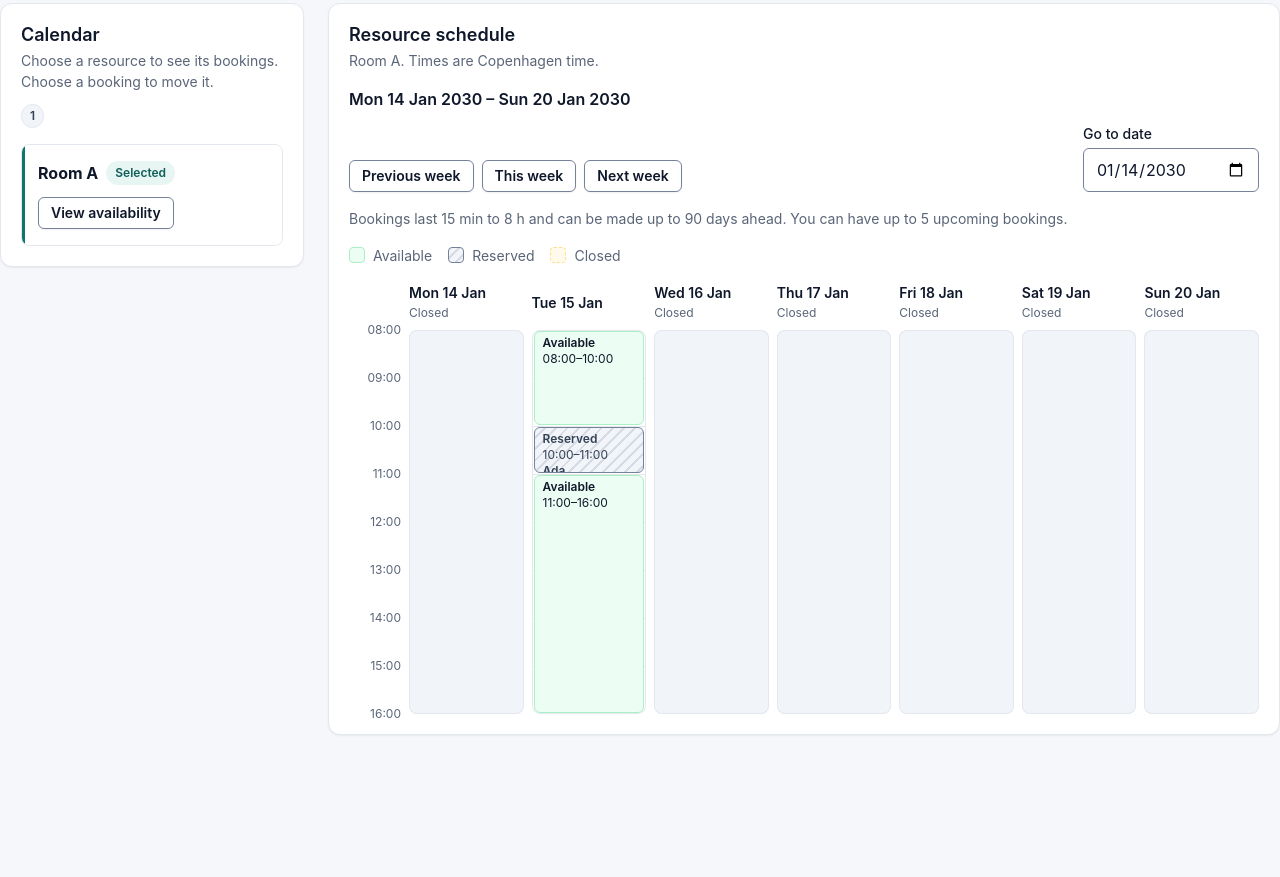
Test: Admin calendar › moves a booking with its version and returns to the same week
The image size is (1280, 877).
Click the button "Reserved 10:00–11:00 Ada".
click(589, 450)  # box [534,427,644,473]
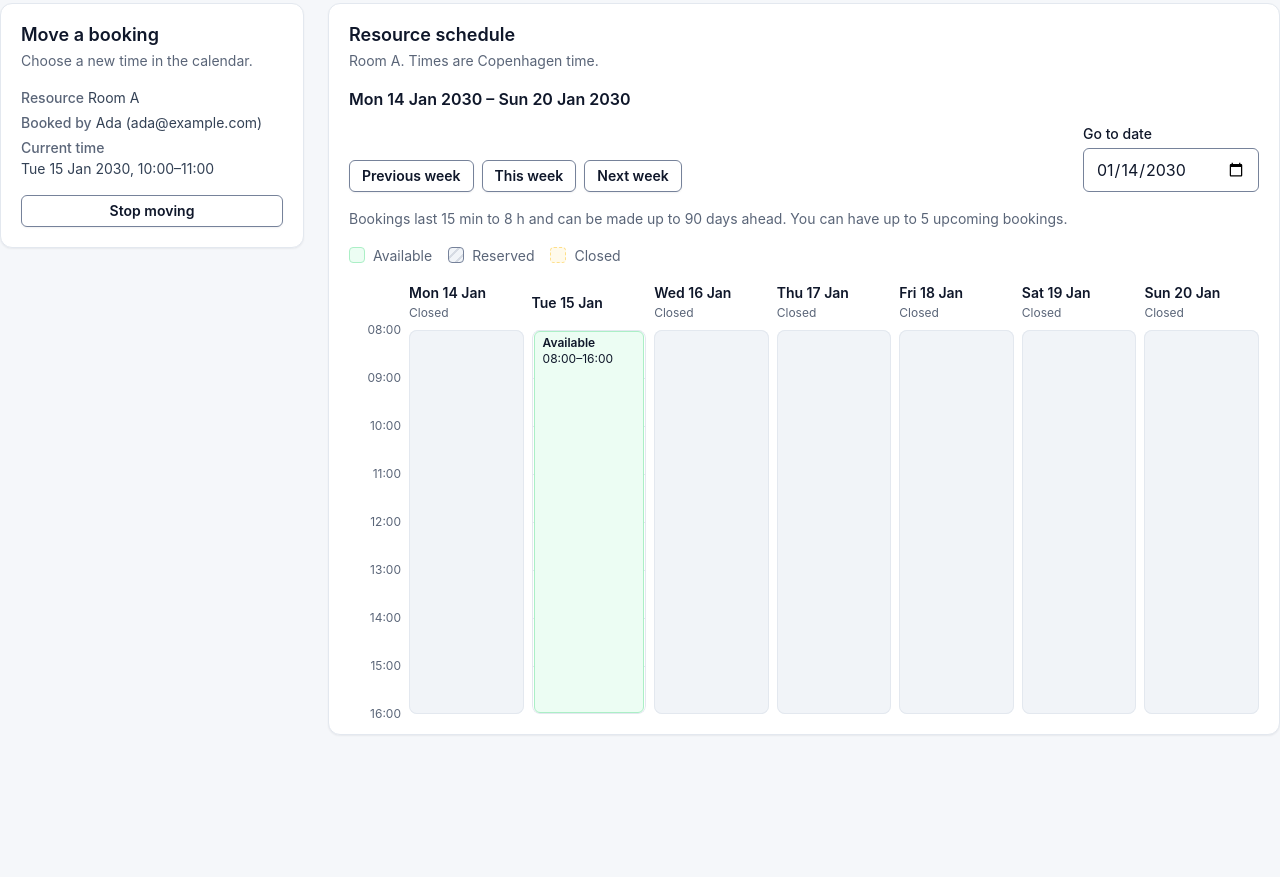
Expected: the text "Ada (ada@example.com)" is shown, [96,112,262,133]
// Ada's own time is free while it is being moved.
Click the button with aria-label "Available Tue 15 Jan 2030, 08:00–16:00. Choose a time".
click(589, 522)  # box [534,331,644,713]
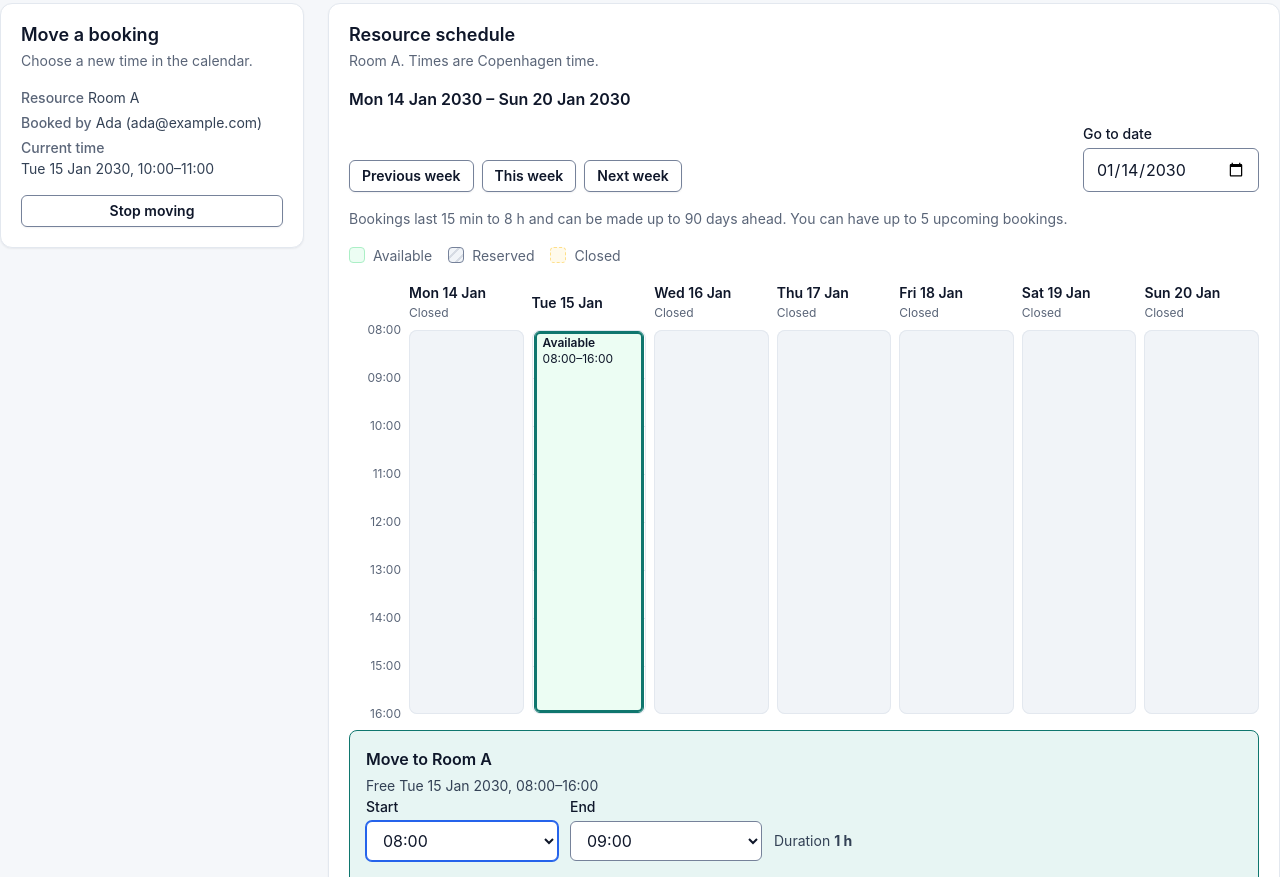
Select "13:00" in the dropdown labelled "Start" at {"x": 462, "y": 841}, box [366,821,558,861]
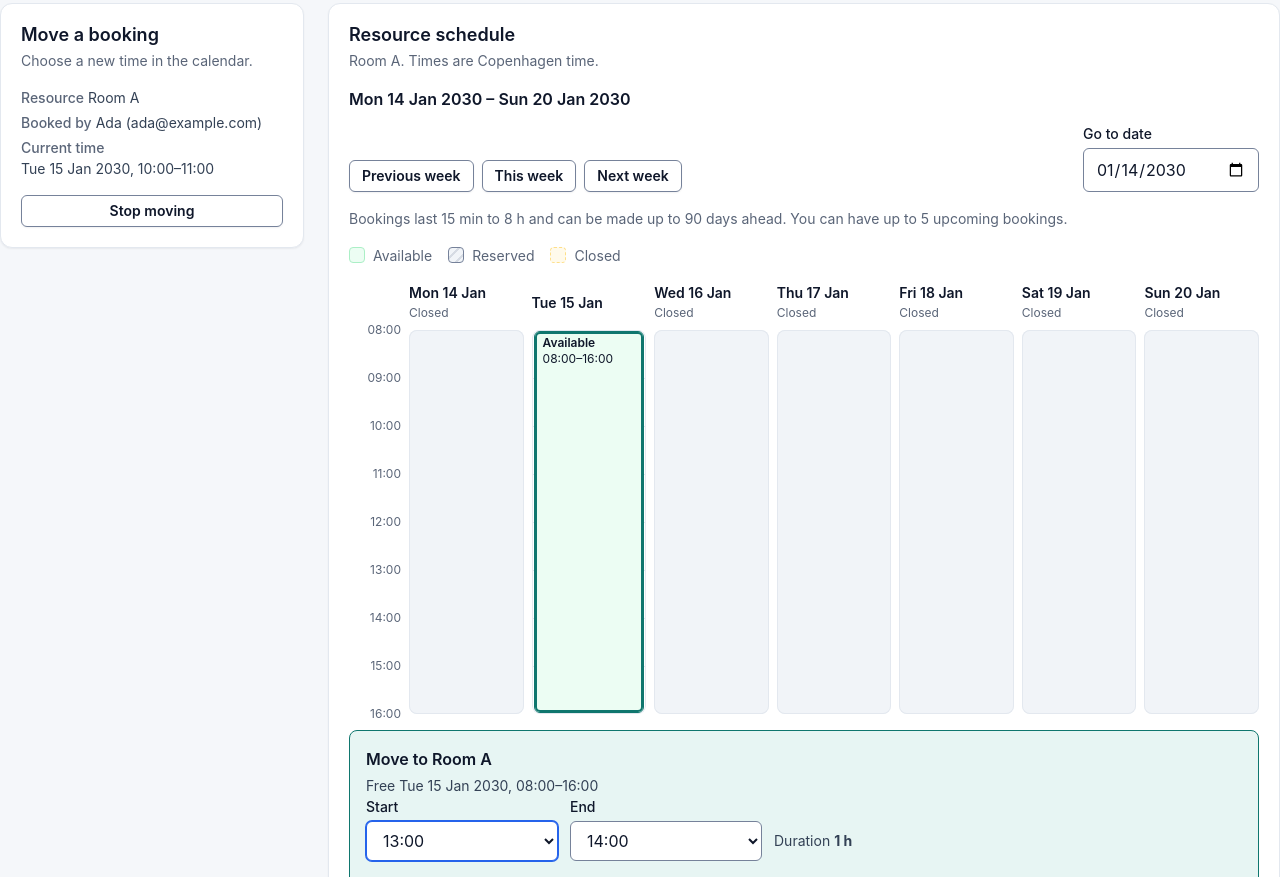
Select "14:00" in the dropdown labelled "End" at {"x": 666, "y": 841}, box [570,821,762,861]
(page scrolled)
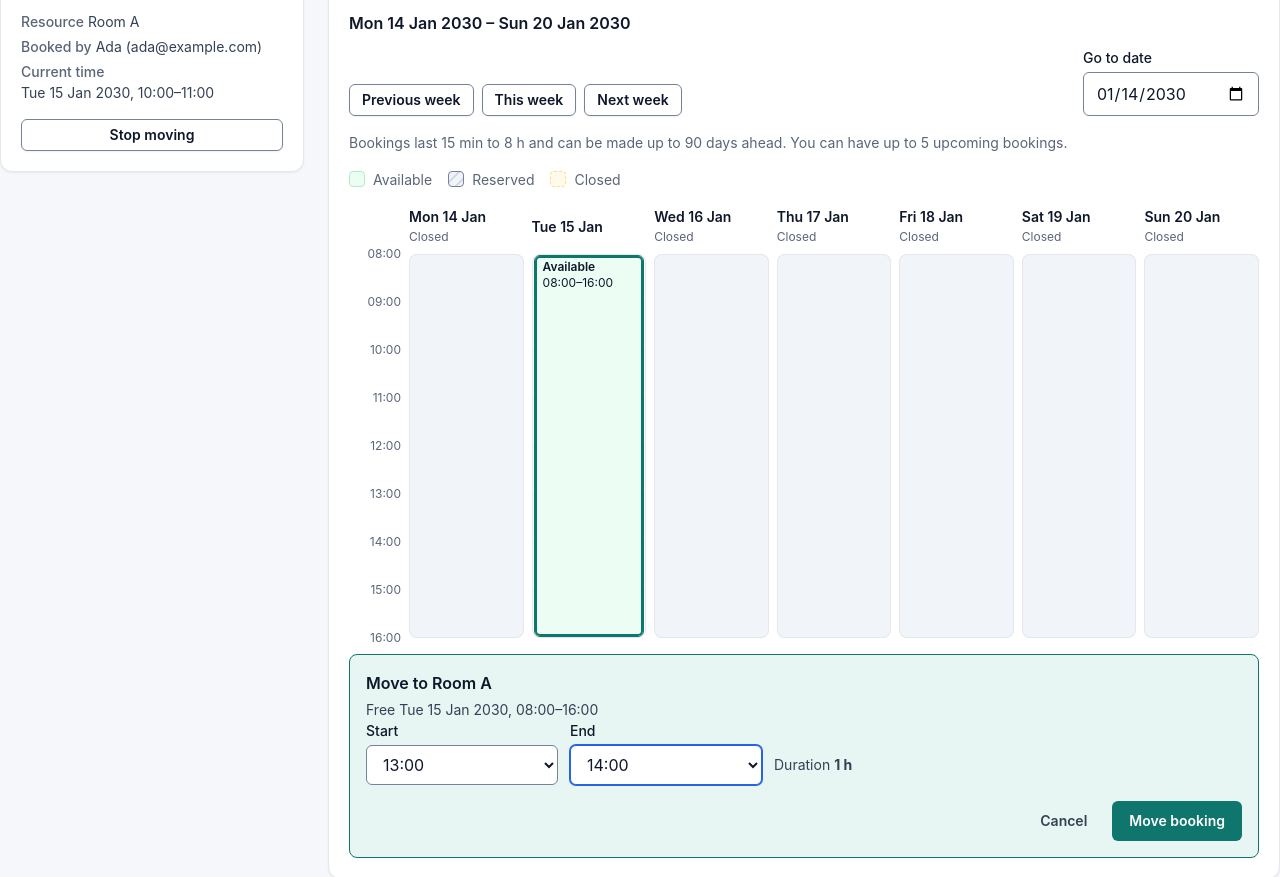
Click the button "Move booking".
click(1177, 821)  # box [1112,801,1242,841]
(page scrolled)
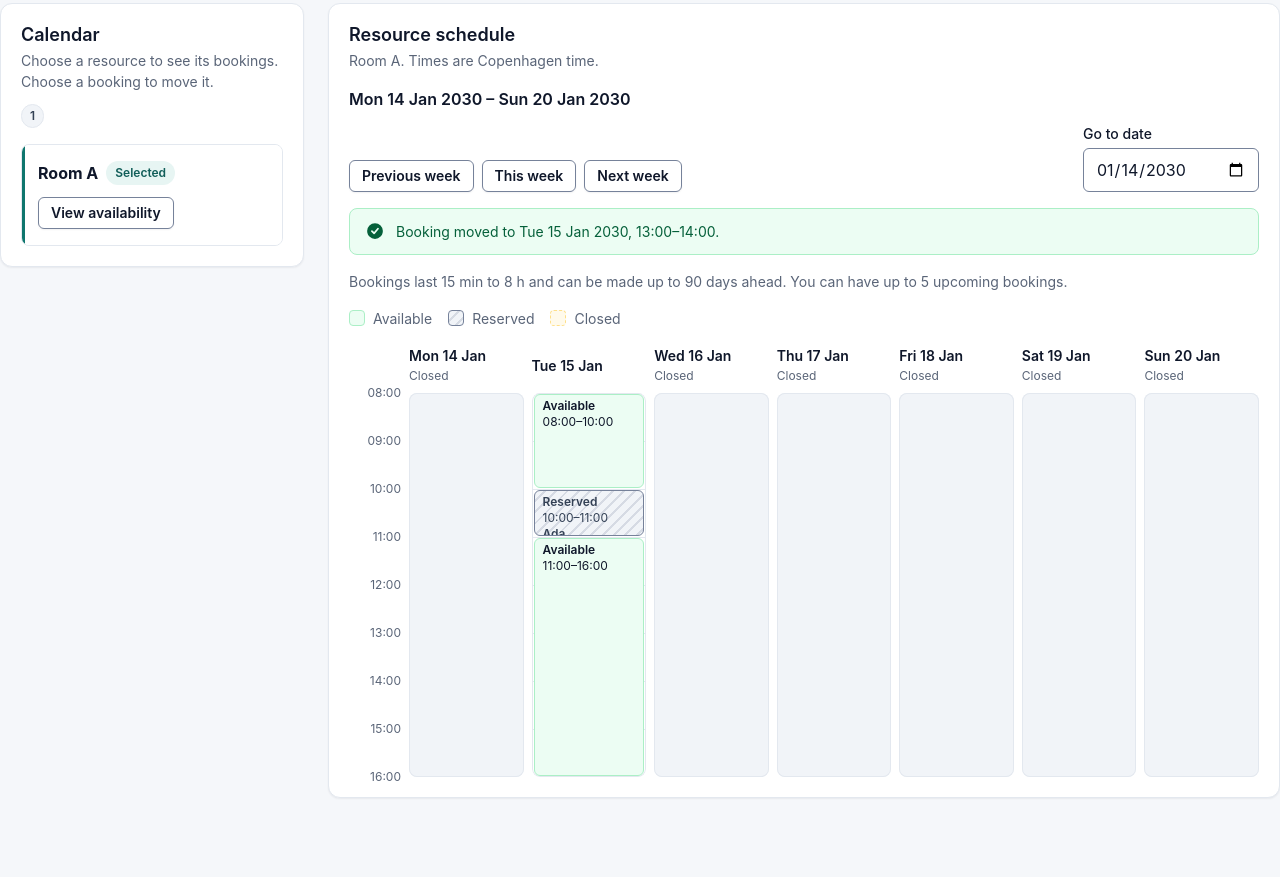
Expected: the message reads "Booking moved to Tue 15 Jan 2030, 13:00–14:00.", [396,223,719,240]
